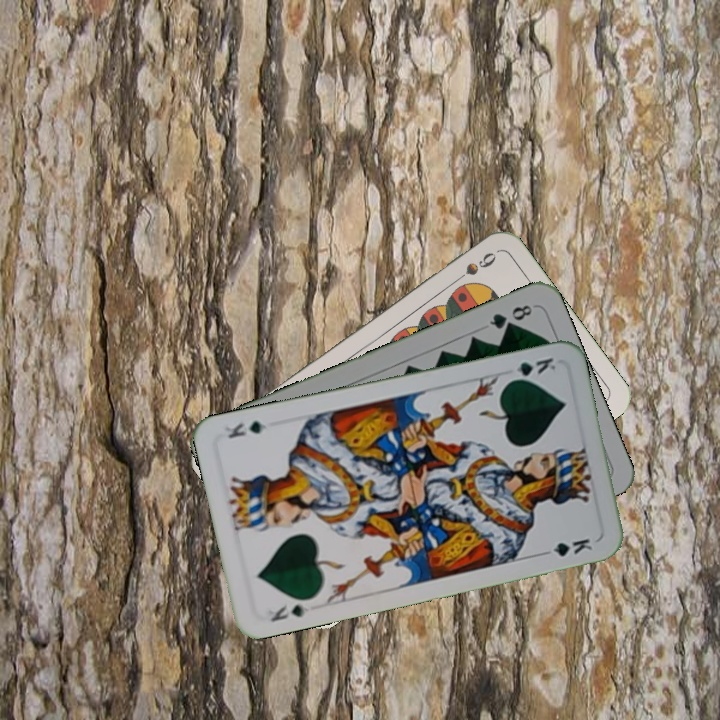G8: (485, 300, 535, 332)
GK: (503, 353, 559, 385), (267, 600, 312, 624)
S9: (447, 247, 499, 288)
